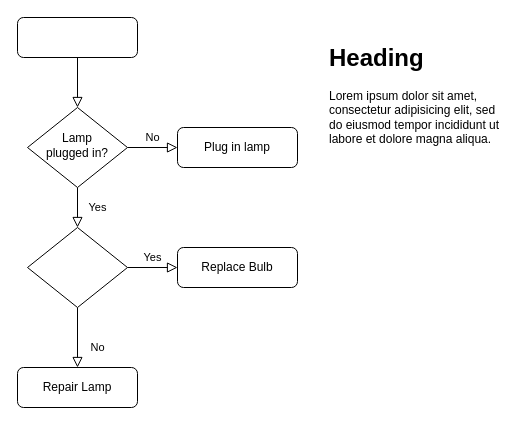
Image size: 525x425. Some labels were removed from this diagram. Each missing label, with the centre of its shape:
"Bulb burned out?" belongs at point 77,267.
"Lamp doesn't work" belongs at point 77,37.
